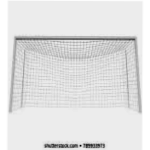goals: (8, 34, 143, 115)
